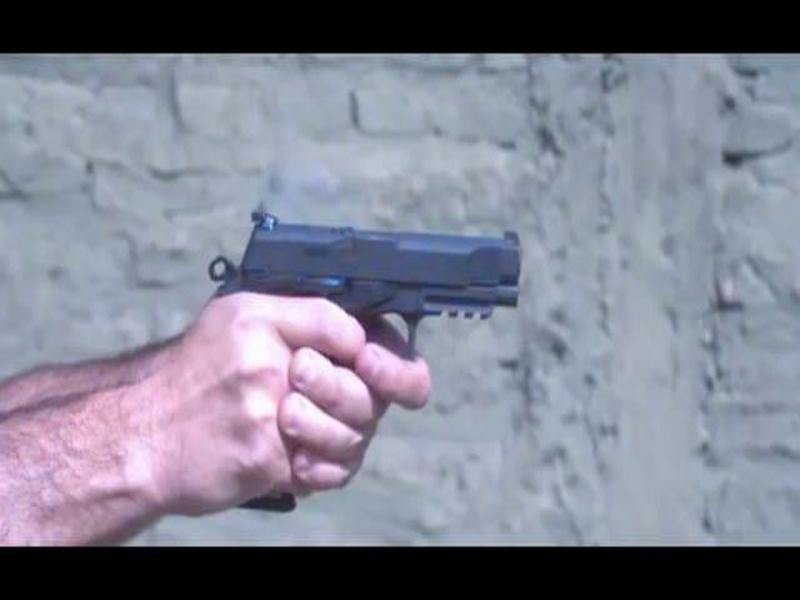Pistola: (194, 205, 532, 440)
